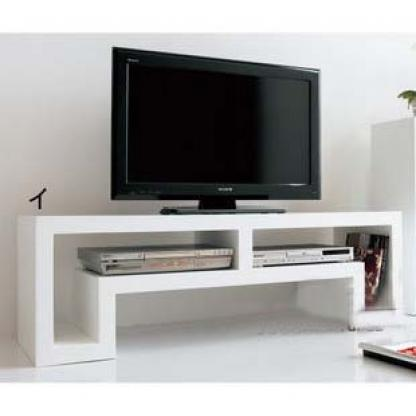TV stand: (14, 208, 412, 368)
